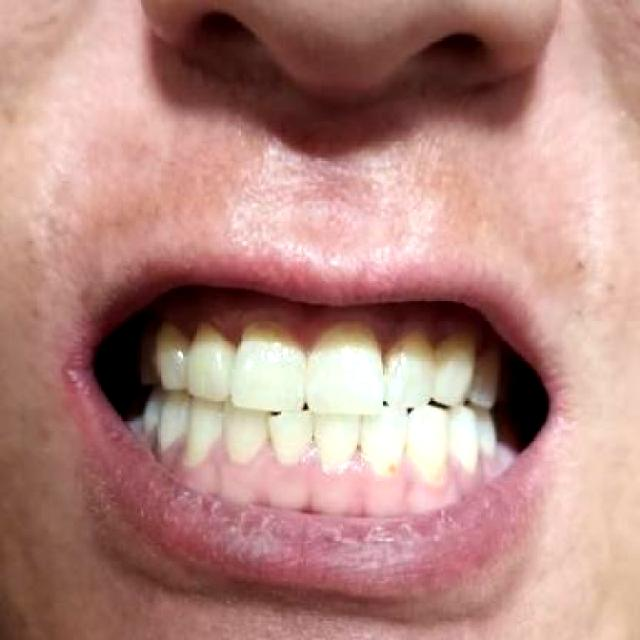Plaque: (386, 465, 406, 481)
